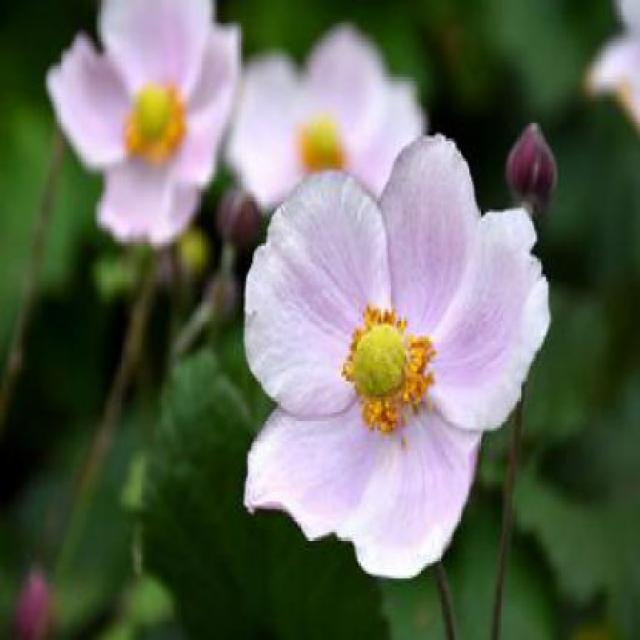Flower: (243, 133, 552, 579), (226, 23, 429, 272), (44, 3, 242, 249), (341, 305, 437, 432), (123, 79, 188, 164), (297, 115, 346, 177)
